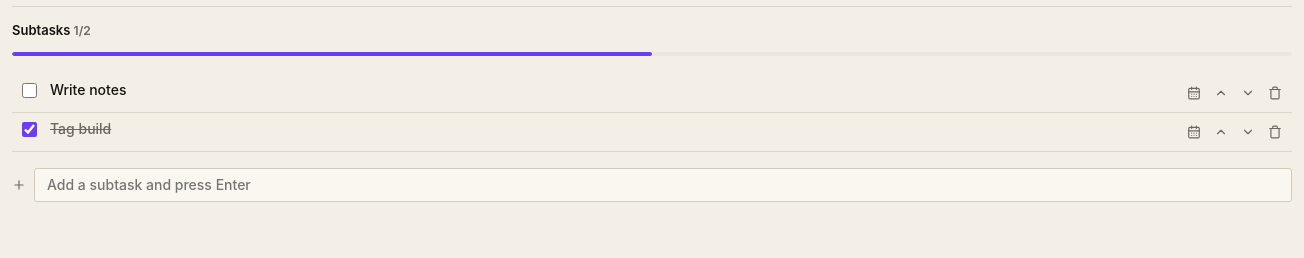
Subtasks › adds a subtask on Enter
Type "QA" into the field named "New subtask" at (663, 185), box [34,168,1292,202]
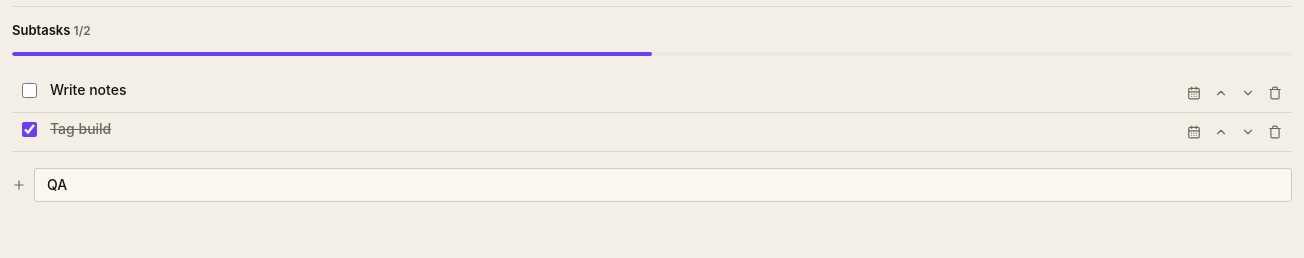
Submit the form named "New subtask", box [12,168,1292,202]
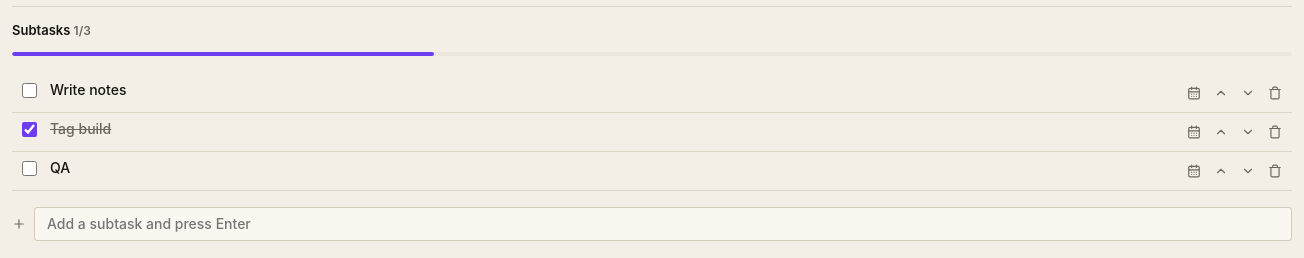
Now the button "QA" is shown, box [50,158,1171,178]
